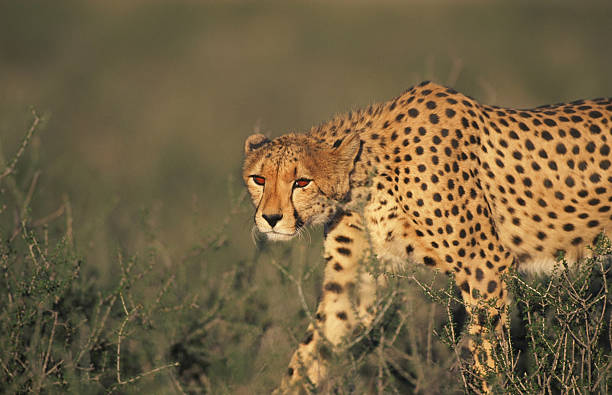cheetah: (225, 111, 373, 252)
